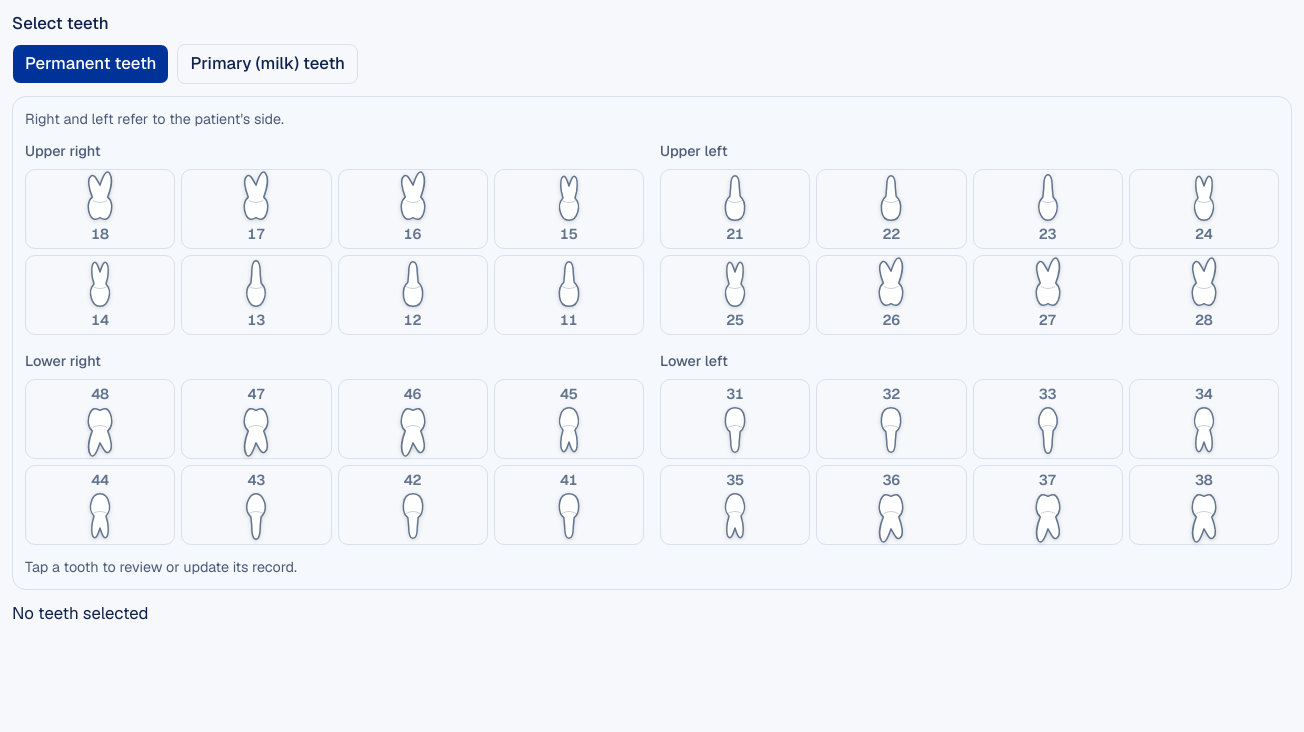
Test: ToothSelector › supports single-tooth review without retaining another selection
Click the button named "11,".
click(569, 295)  # box [494,255,644,335]
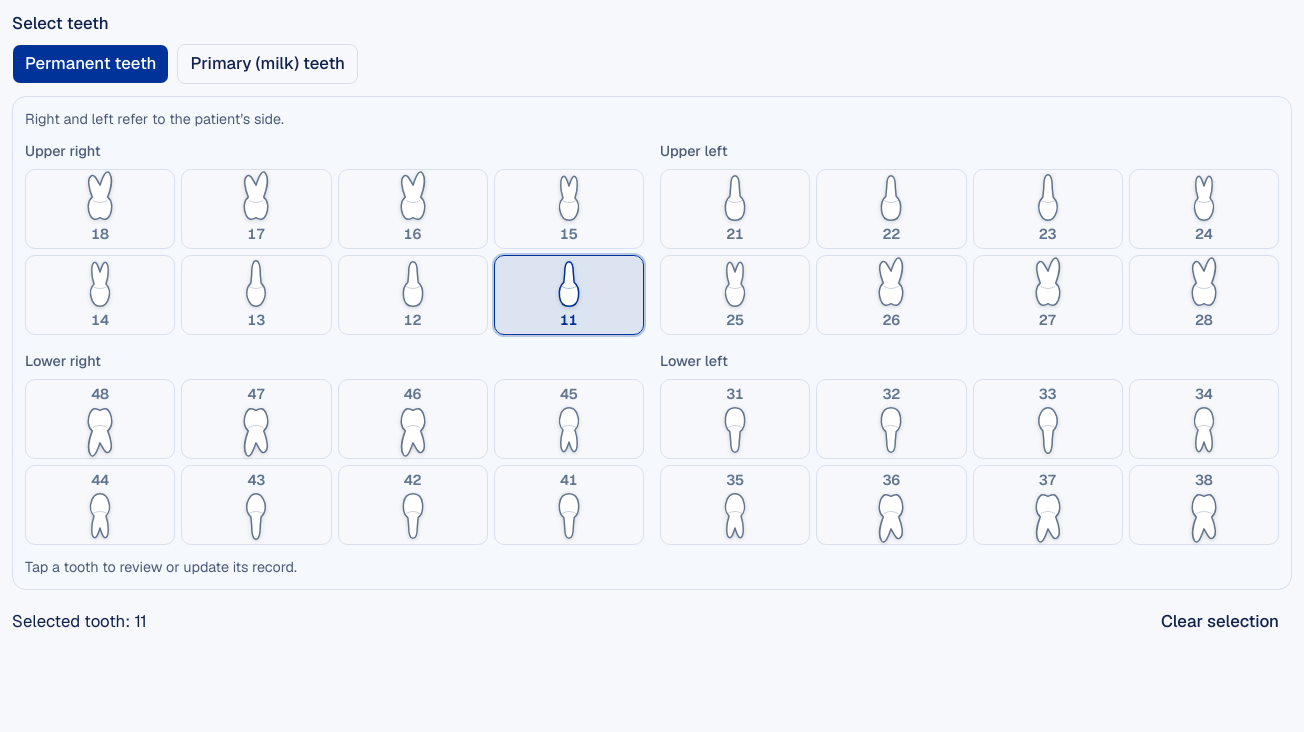
Click the button named "12,".
click(413, 295)  # box [338,255,488,335]
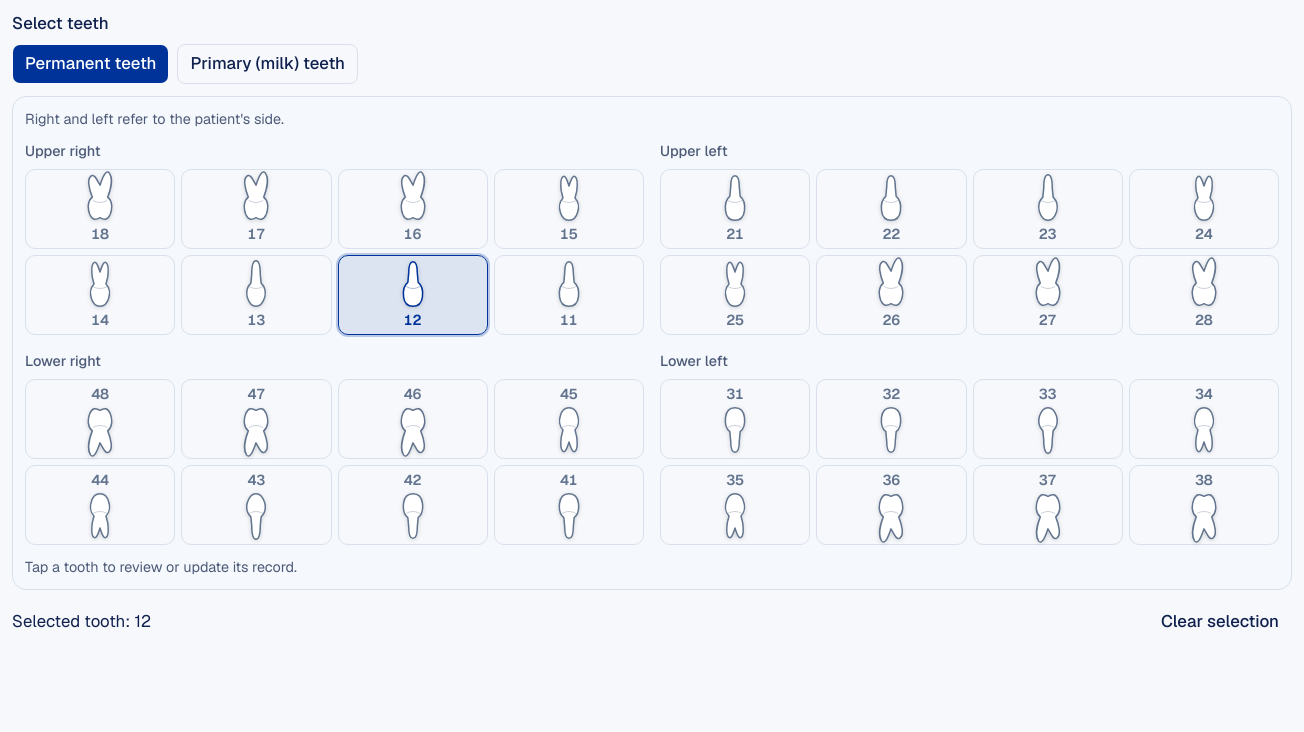
Now the message reads "Selected tooth: 12", box [12,610,151,632]
